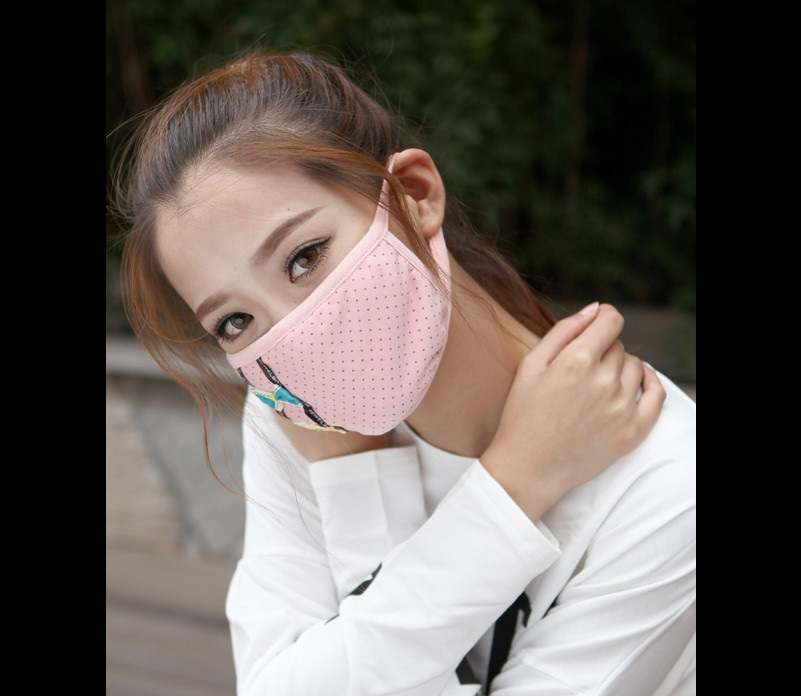face_mask: (174, 153, 430, 438)
